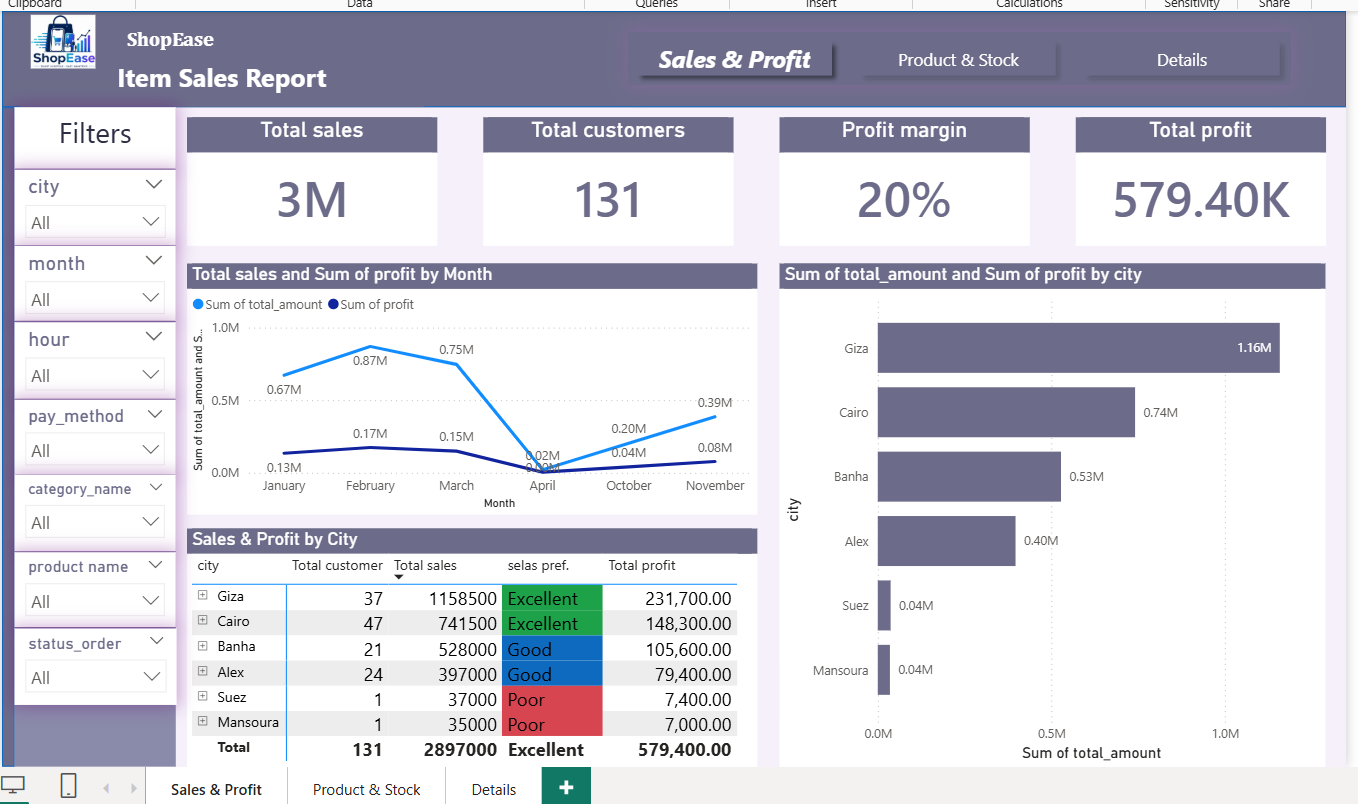

This screenshot's page, from the dashboard's own definition file:
{"tool":"powerbi","page":{"name":"Sales & Profit","canvas":[1280,720],"ordinal":0},"visuals":[{"type":"shape","box":[0,0,1280.3,91.6],"z":0},{"type":"shape","box":[0,91.6,12.1,628],"z":1000},{"type":"shape","box":[12.1,91.6,153.6,628],"z":2000},{"type":"textbox","box":[16.2,41.8,385.4,49.9],"z":3000},{"type":"textbox","box":[114.3,10.7,192.9,38.1],"z":4000},{"type":"image","box":[27,4,62,51.2],"z":5000},{"type":"cardVisual","title":"Total sales","fields":{"Data":["Sum(fact_sales.total_amount)"]},"box":[176.2,101.2,238.1,122.6],"z":6000},{"type":"cardVisual","title":"Customers","fields":{"Data":["CountNonNull(fact_sales.customer_id)"]},"box":[458.3,101.2,238.1,122.6],"z":7000},{"type":"cardVisual","title":"Profit margin","fields":{"Data":["fact_sales.profit margin"]},"box":[740.5,101.2,238.1,122.6],"z":8000},{"type":"textbox","box":[11.9,91.7,153.6,58.3],"z":9000},{"type":"cardVisual","title":"Total profit","fields":{"Data":["Sum(fact_sales.profit)"]},"box":[1022.6,101.2,238.1,122.6],"z":10000},{"type":"lineChart","title":"Total sales and Sum of profit by Month","fields":{"Category":["dim_date.order_date.Variation.Date Hierarchy.Month","dim_date.order_date.Variation.Date Hierarchy.Day"],"Y":["Sum(fact_sales.total_amount)","Sum(fact_sales.profit)"]},"box":[176.2,240.5,542.9,239.3],"z":11000},{"type":"pivotTable","title":"Sales & Profit by City ","fields":{"Values":["CountNonNull(fact_sales.customer_id)","Sum(fact_sales.total_amount)","fact_sales.selas pref.","Sum(fact_sales.profit)"],"Rows":["dim_customer.city Hierarchy.city","dim_customer.city Hierarchy.street"]},"box":[176.2,492.9,542.9,227.4],"z":12000},{"type":"barChart","fields":{"Category":["dim_customer.city Hierarchy.city"],"Y":["Sum(fact_sales.total_amount)"]},"box":[740.5,240.5,520.2,479.8],"z":13000},{"type":"slicer","fields":{"Values":["dim_customer.city"]},"box":[12,151.3,153.7,72],"z":14000},{"type":"slicer","fields":{"Values":["dim_date.month"]},"box":[11.9,223.8,153.6,71.4],"z":15000},{"type":"slicer","fields":{"Values":["dim_date.hour"]},"box":[11.9,296.4,153.6,72.6],"z":16000},{"type":"slicer","fields":{"Values":["dim_payment.pay_method"]},"box":[11.9,370.2,153.6,71.4],"z":17000},{"type":"slicer","fields":{"Values":["dim_product.category_name"]},"box":[11.9,441.7,153.6,72.6],"z":18000},{"type":"slicer","fields":{"Values":["dim_product.product_name"]},"box":[11.9,515.5,153.6,71.4],"z":19000},{"type":"slicer","fields":{"Values":["fact_sales.status_order"]},"box":[11.9,588.1,154.8,72.6],"z":20000},{"type":"pageNavigator","box":[596.4,20.2,631,50],"z":21000}]}

Visuals, with their boxes on the page's 1280x720 design canvas (x1, y1, x2, y2). These are canvas units, not pixel positions in the 1358x804 screenshot, which may show the page scaled, cropped or inside an application window:
shape: box=[0, 0, 1280, 92]
shape: box=[0, 92, 12, 720]
shape: box=[12, 92, 166, 720]
textbox: box=[16, 42, 402, 92]
textbox: box=[114, 11, 307, 49]
image: box=[27, 4, 89, 55]
"Total sales" cardVisual: box=[176, 101, 414, 224]
"Customers" cardVisual: box=[458, 101, 696, 224]
"Profit margin" cardVisual: box=[740, 101, 979, 224]
textbox: box=[12, 92, 166, 150]
"Total profit" cardVisual: box=[1023, 101, 1261, 224]
"Total sales and Sum of profit by Month" lineChart: box=[176, 240, 719, 480]
"Sales & Profit by City " pivotTable: box=[176, 493, 719, 720]
barChart - dim_customer.city Hierarchy.city x Sum(fact_sales.total_amount): box=[740, 240, 1261, 720]
slicer - dim_customer.city: box=[12, 151, 166, 223]
slicer - dim_date.month: box=[12, 224, 166, 295]
slicer - dim_date.hour: box=[12, 296, 166, 369]
slicer - dim_payment.pay_method: box=[12, 370, 166, 442]
slicer - dim_product.category_name: box=[12, 442, 166, 514]
slicer - dim_product.product_name: box=[12, 516, 166, 587]
slicer - fact_sales.status_order: box=[12, 588, 167, 661]
pageNavigator: box=[596, 20, 1227, 70]
